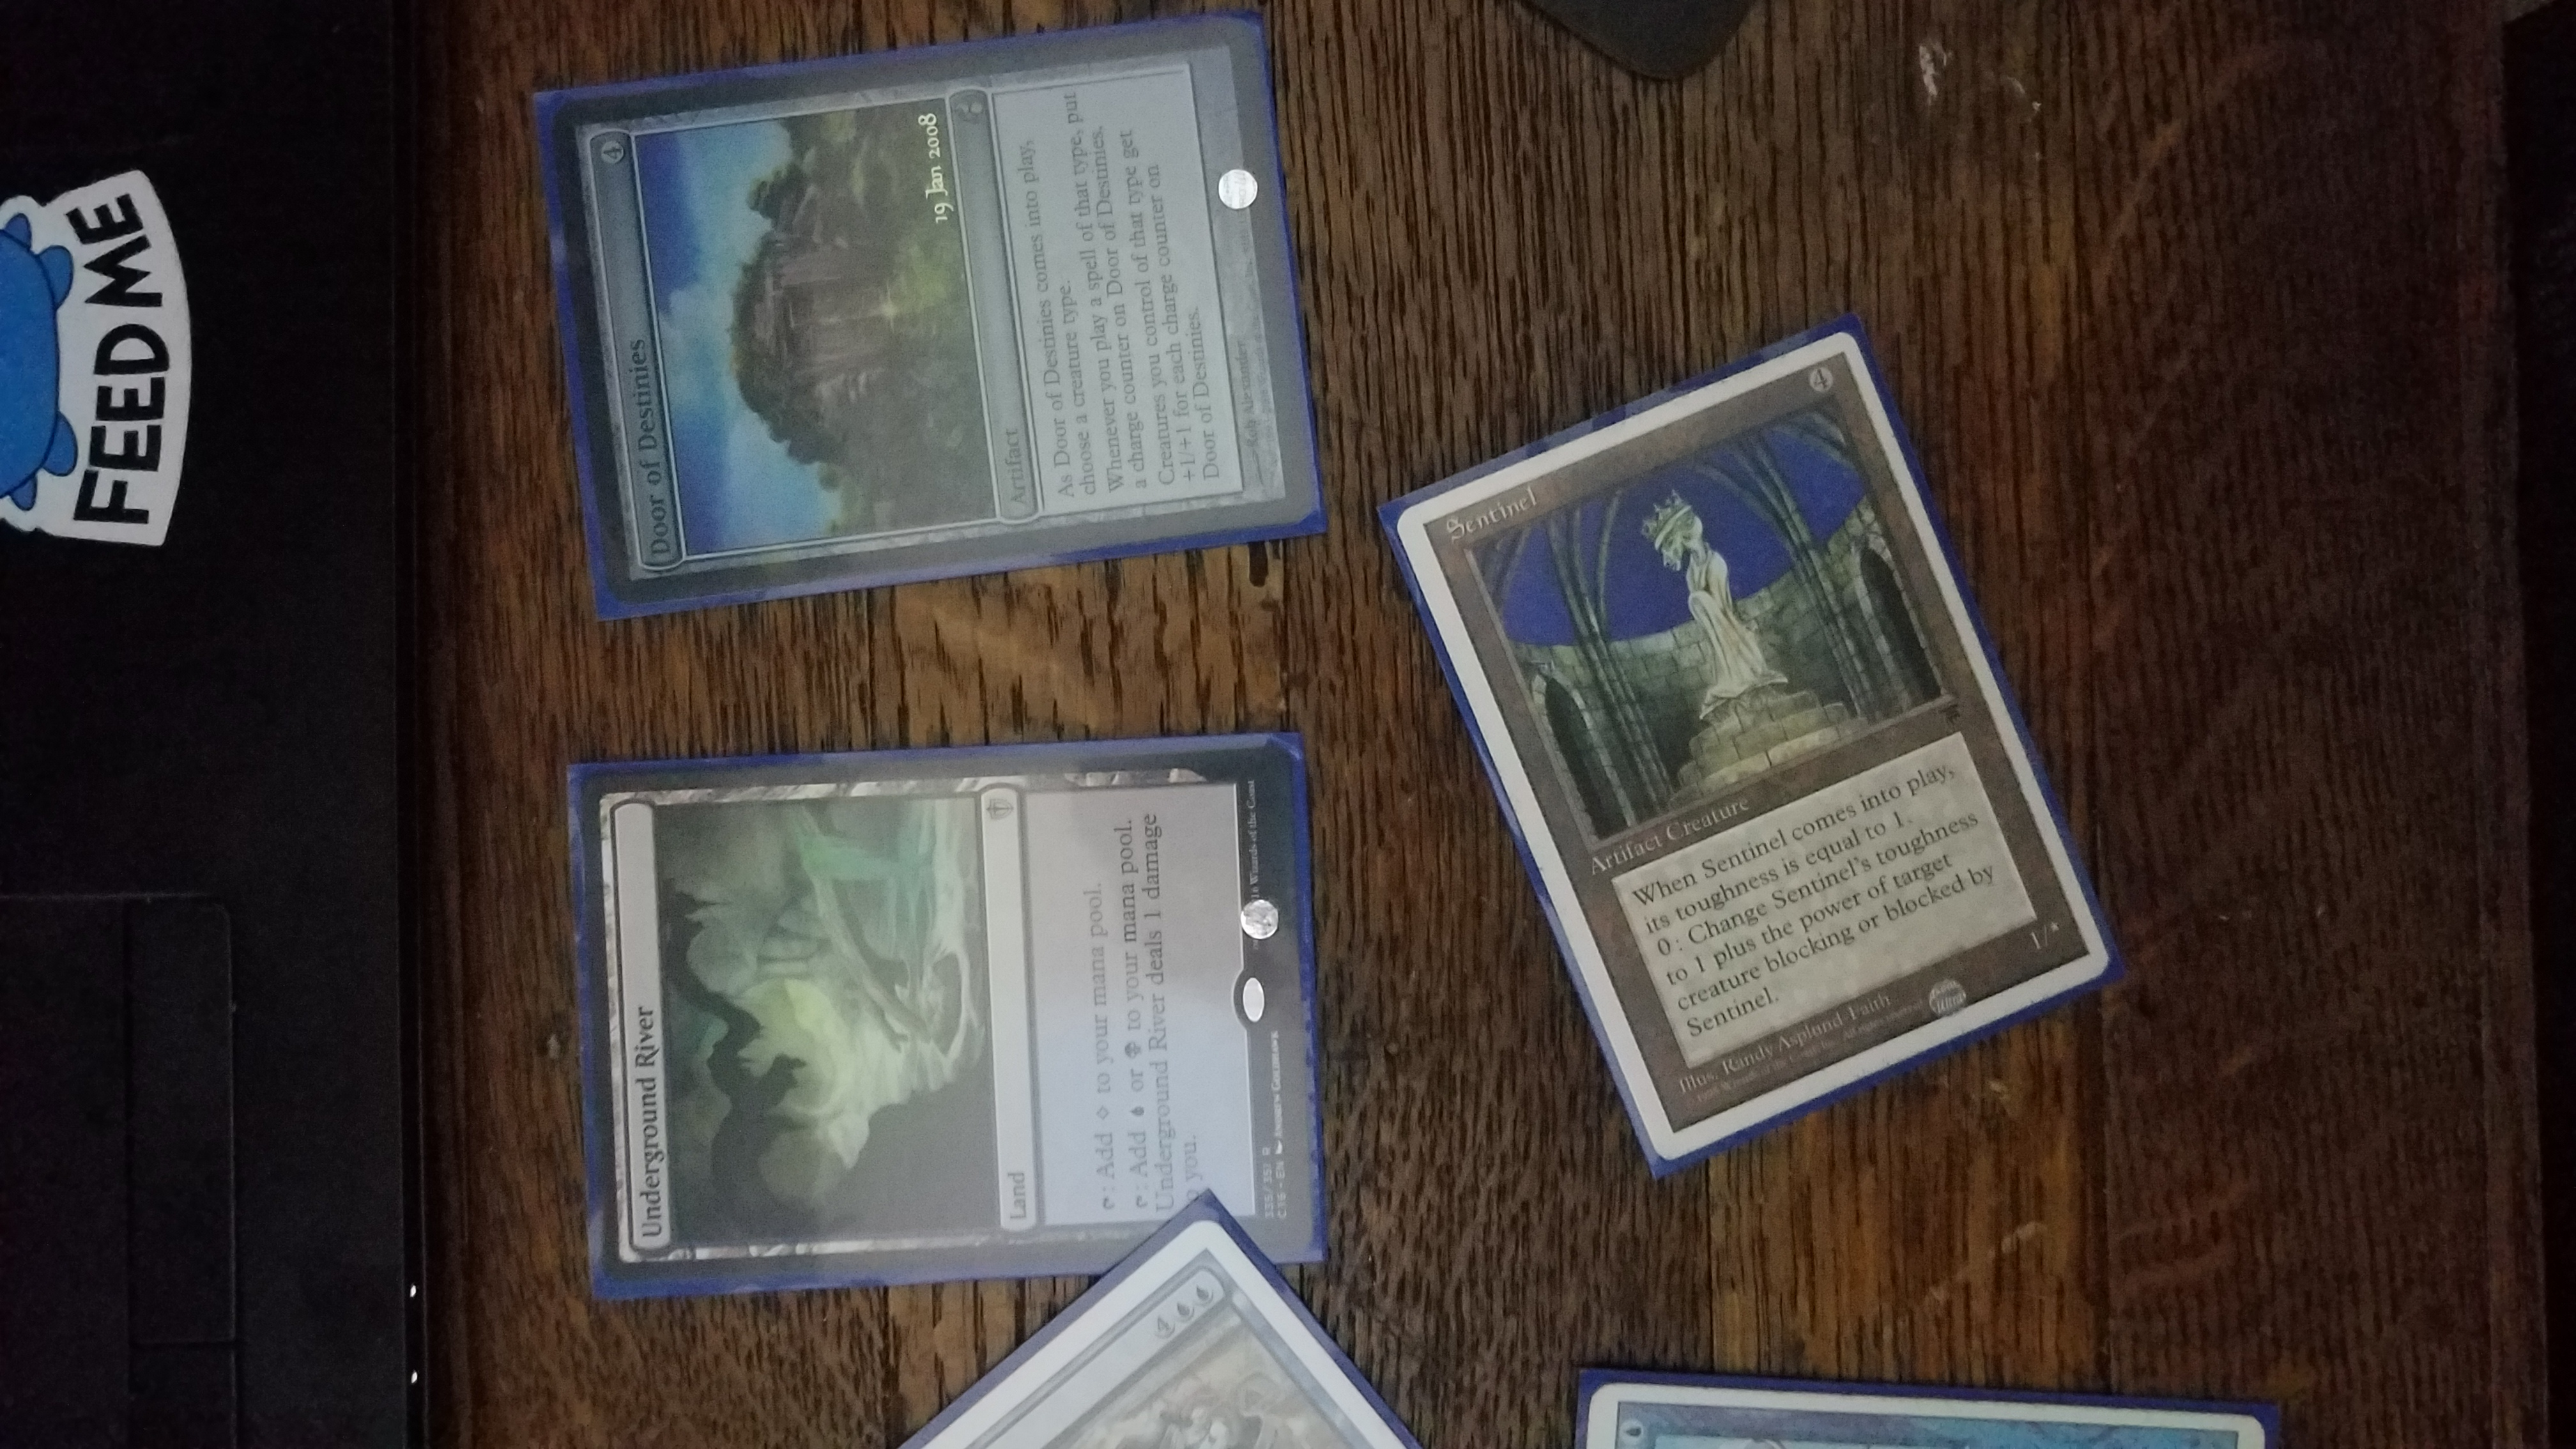Card: (1392, 322, 2118, 1164), (547, 32, 1316, 607), (579, 732, 1329, 1292)
